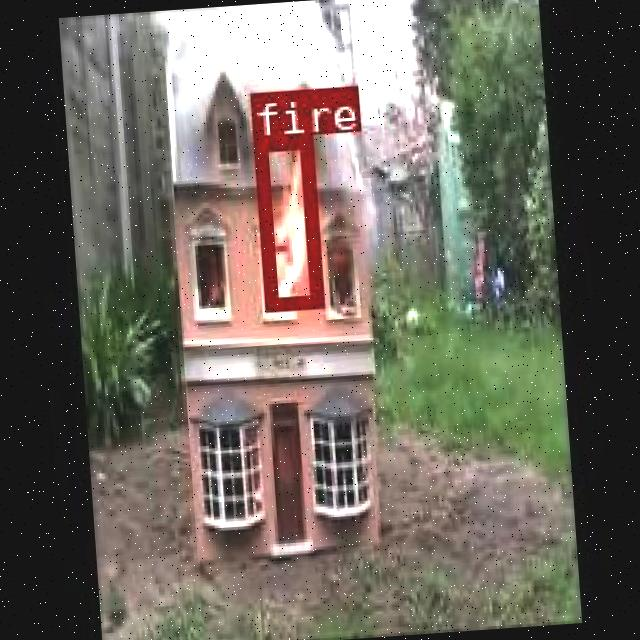fire: (252, 134, 321, 307)
